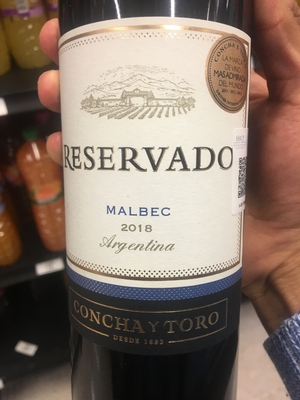reservado malbec: (53, 10, 266, 395)
